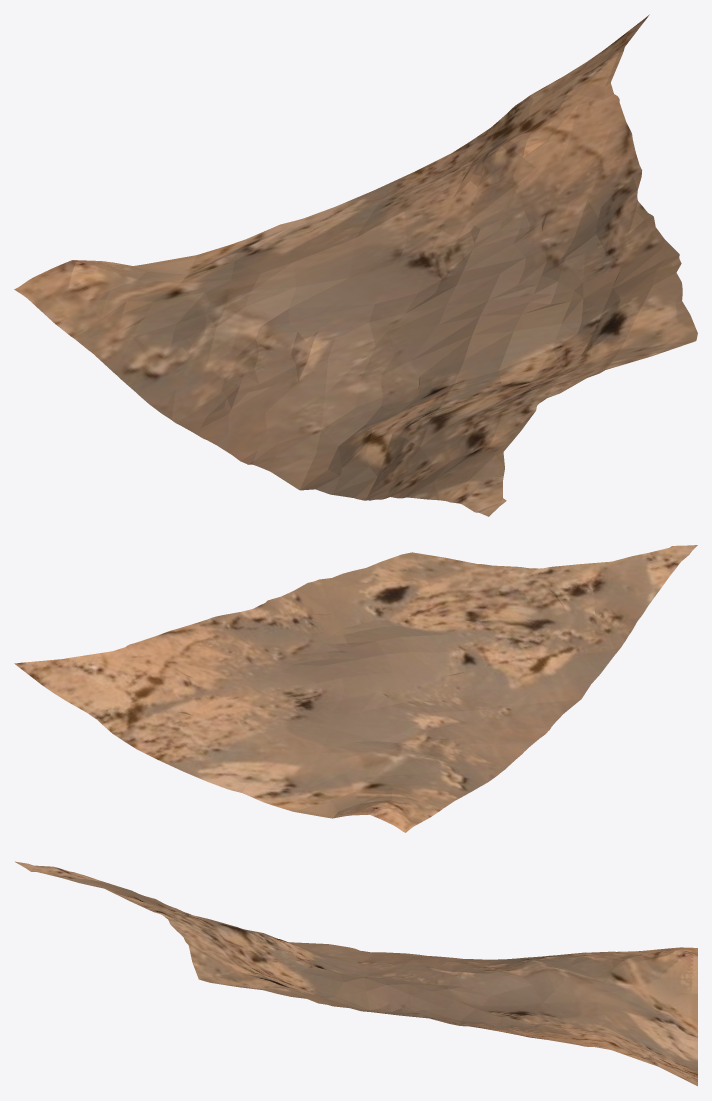
3 renders of one model, top to bottom at view 1: azimuth 30°, elevation 25°; view 2: azimuth 150°, elevation 25°; view 3: azimuth 270°, elevation 25°, orthographic. The views are drawn at different scales.
Size of the model in its own units: 0.9795 by 0.2005 by 1.27.
Materials: 1 (1 with a texture image).
